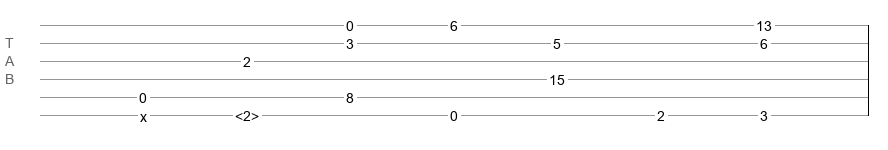0: (139, 90, 147, 100), (346, 18, 354, 28), (450, 108, 458, 118)
13: (756, 18, 772, 28)
15: (549, 72, 565, 82)
2: (243, 54, 251, 64), (657, 108, 665, 118)
3: (346, 36, 354, 46), (760, 108, 768, 118)
5: (553, 36, 561, 46)
6: (450, 18, 458, 28), (760, 36, 768, 46)
8: (346, 90, 354, 100)
harmonic: (235, 108, 259, 118)
x: (140, 109, 147, 117)
